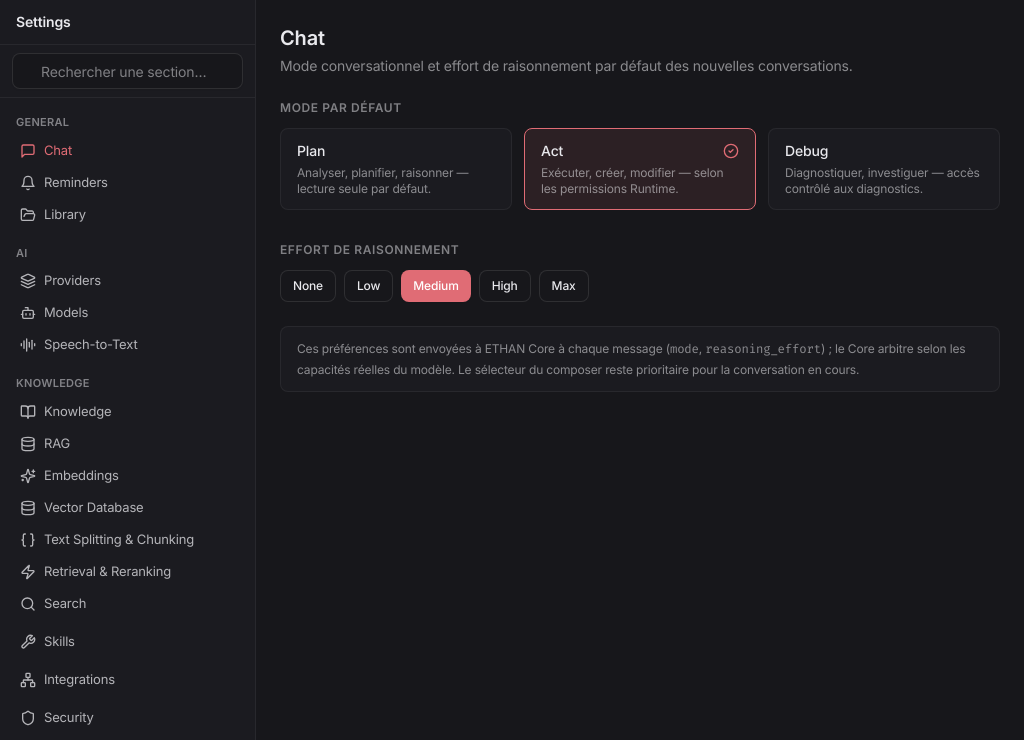
Test: Settings → RAG — section first-class restaurée › Knowledge conserve la gestion des données avec un lien secondaire vers le moteur RAG
This screenshot has width=1024, height=740.
Click the button "Knowledge": (128, 412) x1=8 y1=396 x2=247 y2=428
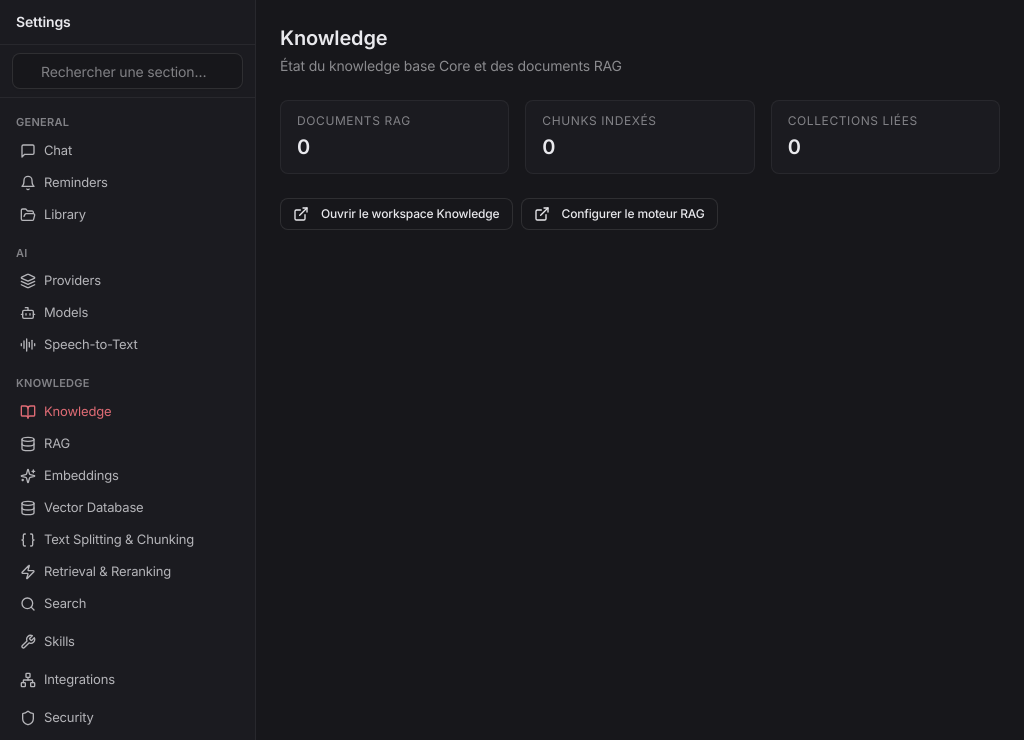
expect the text "Ouvrir le workspace Knowledge" is shown: met, box x1=321 y1=206 x2=500 y2=222
